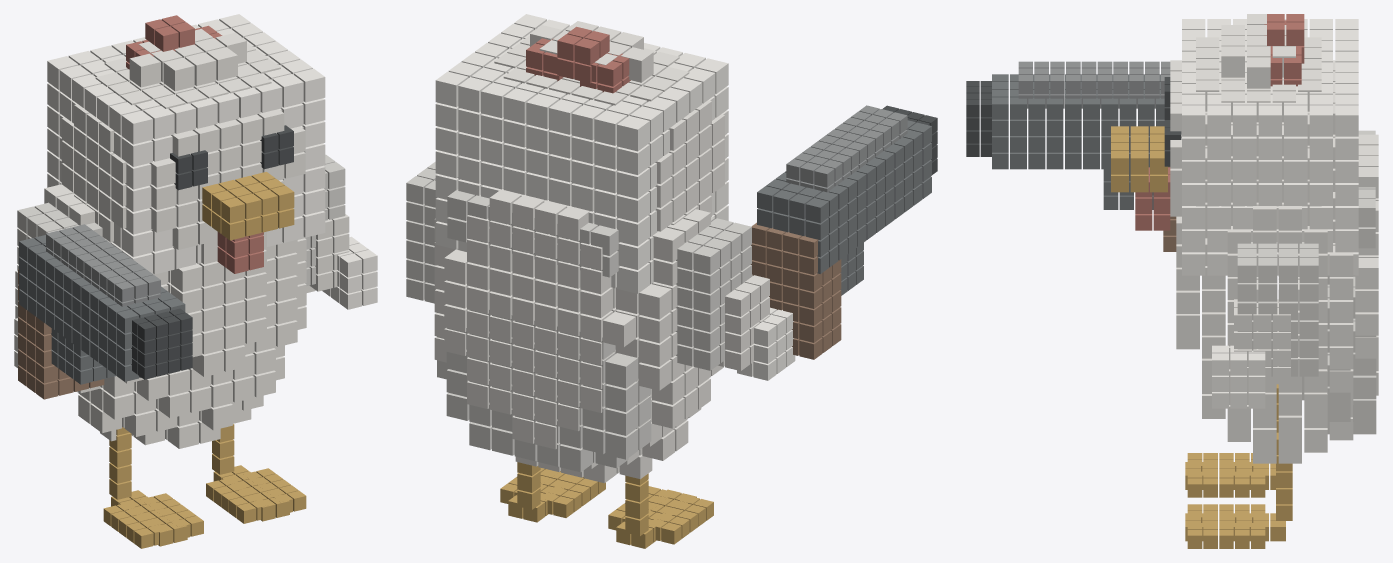
File: white_chicken_v4.glb
The picture shows the model from 3 angles, left to right: view 1: azimuth 30°, elevation 25°; view 2: azimuth 150°, elevation 25°; view 3: azimuth 270°, elevation 25°; orthographic projection. The views are drawn at different scales.
Visible parts, largest first — view 1: warmwhite, light, ochre, gun, black, gunhi, brickred, greywhite, wood; view 2: warmwhite, light, greywhite, gun, ochre, wood, gunhi, brickred, black; view 3: warmwhite, light, ochre, greywhite, gun, gunhi, brickred, black.
Boxes of the visible parts, x1,y1,x2,y2 form: warmwhite: [15, 29, 349, 448]; light: [14, 14, 377, 367]; ochre: [103, 172, 306, 548]; gun: [19, 235, 185, 384]; black: [131, 125, 293, 379]; gunhi: [46, 224, 160, 306]; brickred: [126, 15, 263, 273]; greywhite: [17, 154, 345, 285]; wood: [18, 269, 104, 399]; warmwhite: [434, 21, 769, 483]; light: [435, 14, 795, 380]; greywhite: [406, 161, 751, 472]; gun: [757, 120, 931, 295]; ochre: [500, 462, 713, 548]; wood: [750, 222, 841, 359]; gunhi: [786, 105, 907, 192]; brickred: [526, 26, 630, 93]; black: [882, 105, 937, 174]; warmwhite: [1170, 14, 1378, 463]; light: [1182, 19, 1358, 408]; ochre: [1111, 126, 1292, 548]; greywhite: [1237, 130, 1376, 434]; gun: [992, 74, 1164, 209]; gunhi: [1018, 61, 1170, 108]; brickred: [1135, 14, 1304, 230]; black: [966, 77, 1181, 166].
Size of the model in its own units: 1.75 by 2.19 by 1.7.
